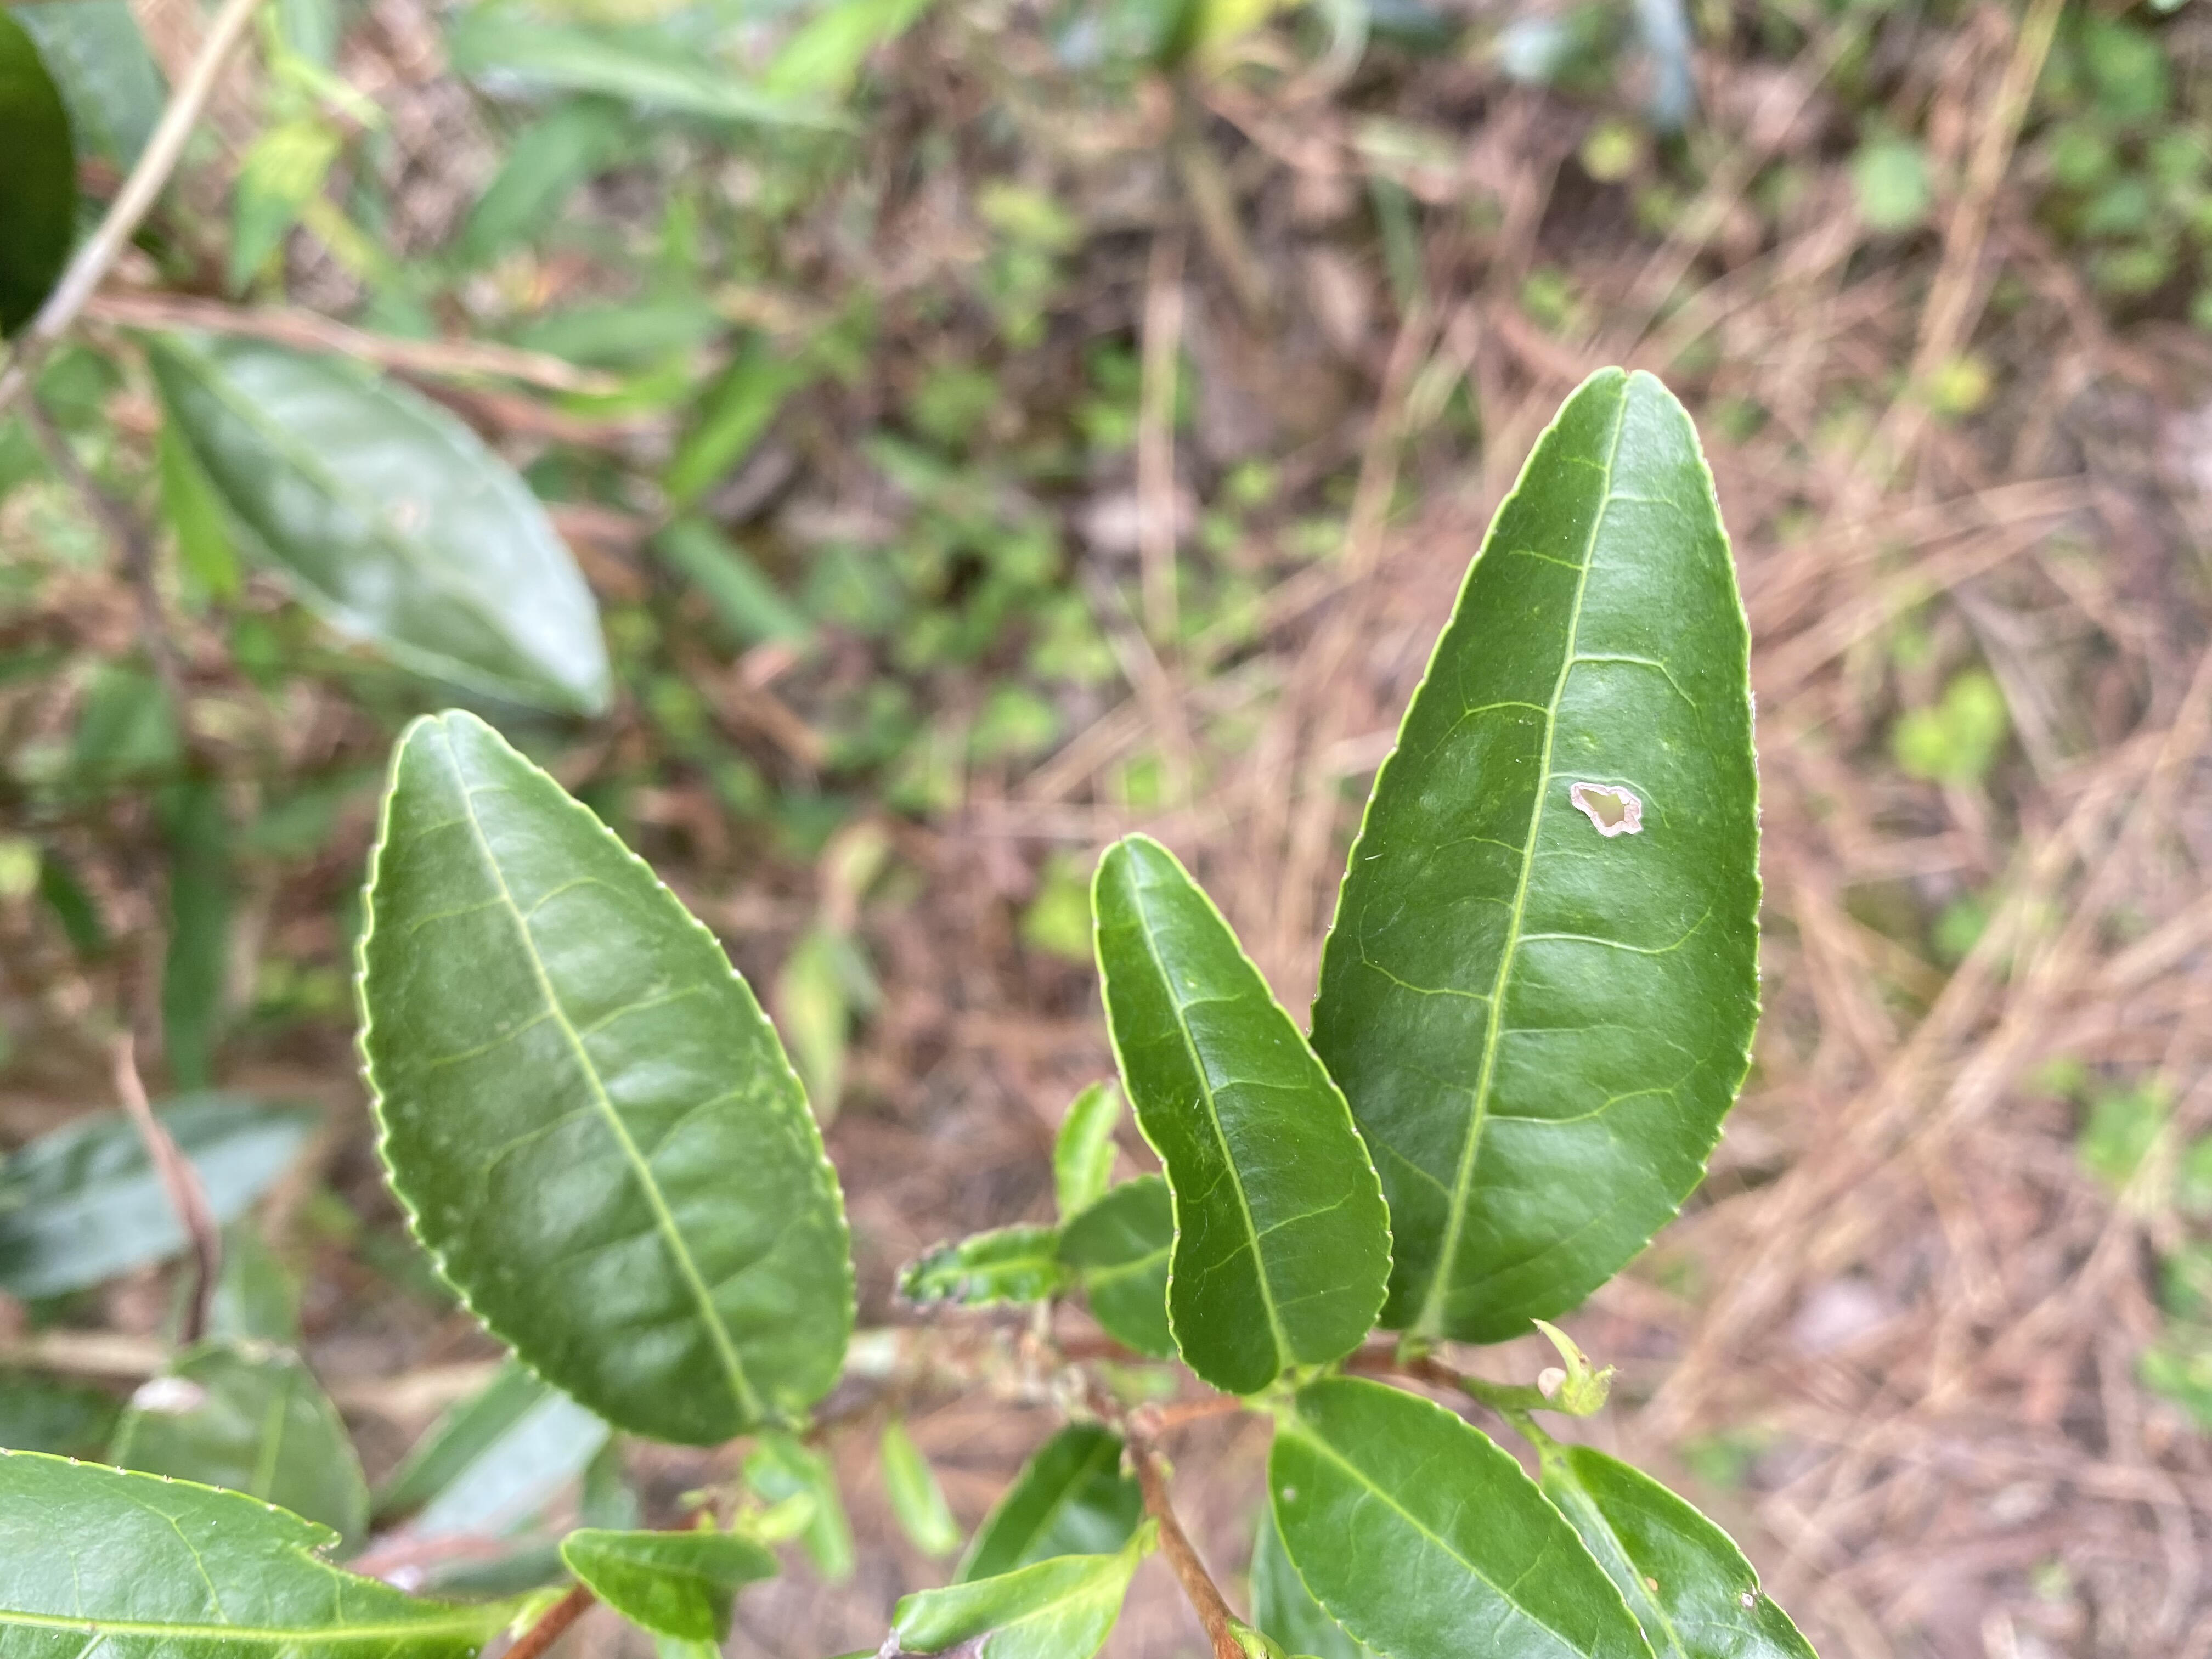chihuo_low: (1308, 366, 1770, 1352)
healthy: (352, 706, 857, 1446), (1092, 833, 1388, 1398), (1270, 1377, 1660, 1656)
